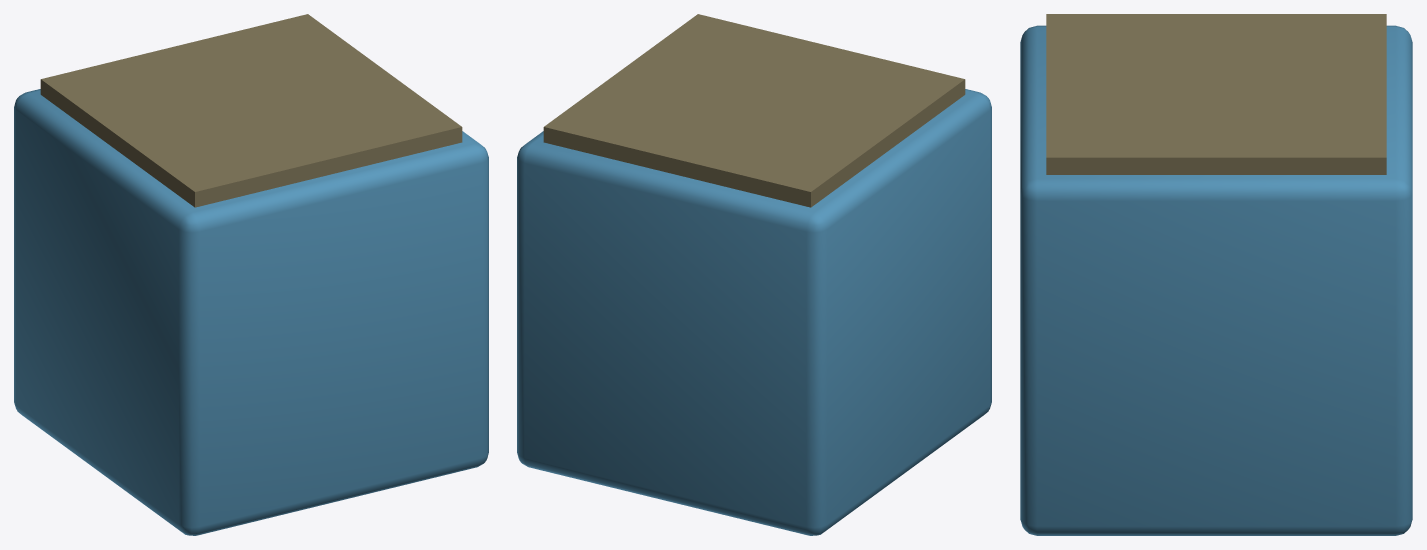
The model's file is Cubo_plataforma.fbx.
3 views of the same model, side by side, from view 1: azimuth 30°, elevation 25°; view 2: azimuth 150°, elevation 25°; view 3: azimuth 270°, elevation 25° (orthographic). The views are drawn at different scales.
Parts seen in each view (by area): view 1: cubo_inferior, piso; view 2: cubo_inferior, piso; view 3: cubo_inferior, piso.
Boxes of the visible parts, x1=… form: cubo_inferior: x1=14, y1=89, x2=488, y2=535; piso: x1=40, y1=14, x2=462, y2=207; cubo_inferior: x1=517, y1=89, x2=991, y2=535; piso: x1=543, y1=14, x2=965, y2=207; cubo_inferior: x1=1020, y1=25, x2=1412, y2=535; piso: x1=1046, y1=14, x2=1386, y2=174.
Bounding box in the file's own units: 200 × 210 × 200.
